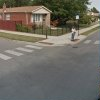crosswalk: (0, 44, 42, 60), (83, 39, 100, 44)
